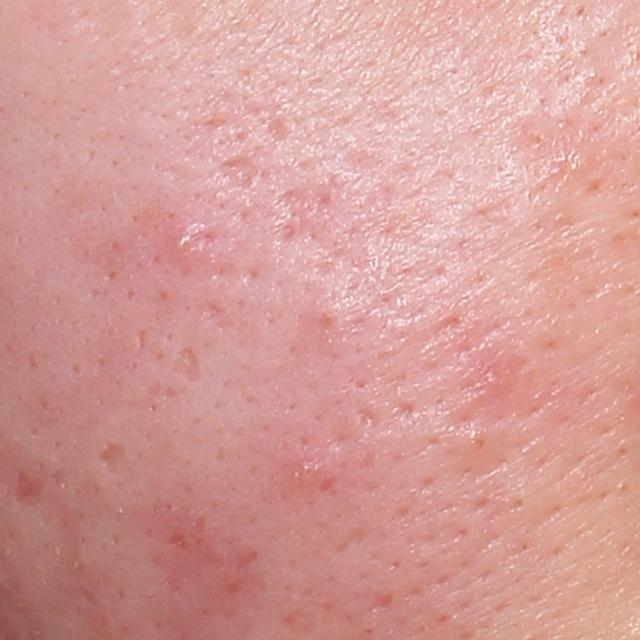atrophic_scar: (503, 109, 580, 185), (272, 178, 346, 236), (205, 150, 266, 197), (93, 439, 130, 480), (168, 343, 205, 382), (12, 468, 44, 508), (336, 525, 369, 554), (265, 116, 293, 149), (365, 589, 392, 613), (164, 529, 191, 552), (135, 327, 149, 350)
comedo: (465, 425, 494, 454)
papule: (167, 222, 203, 263)
